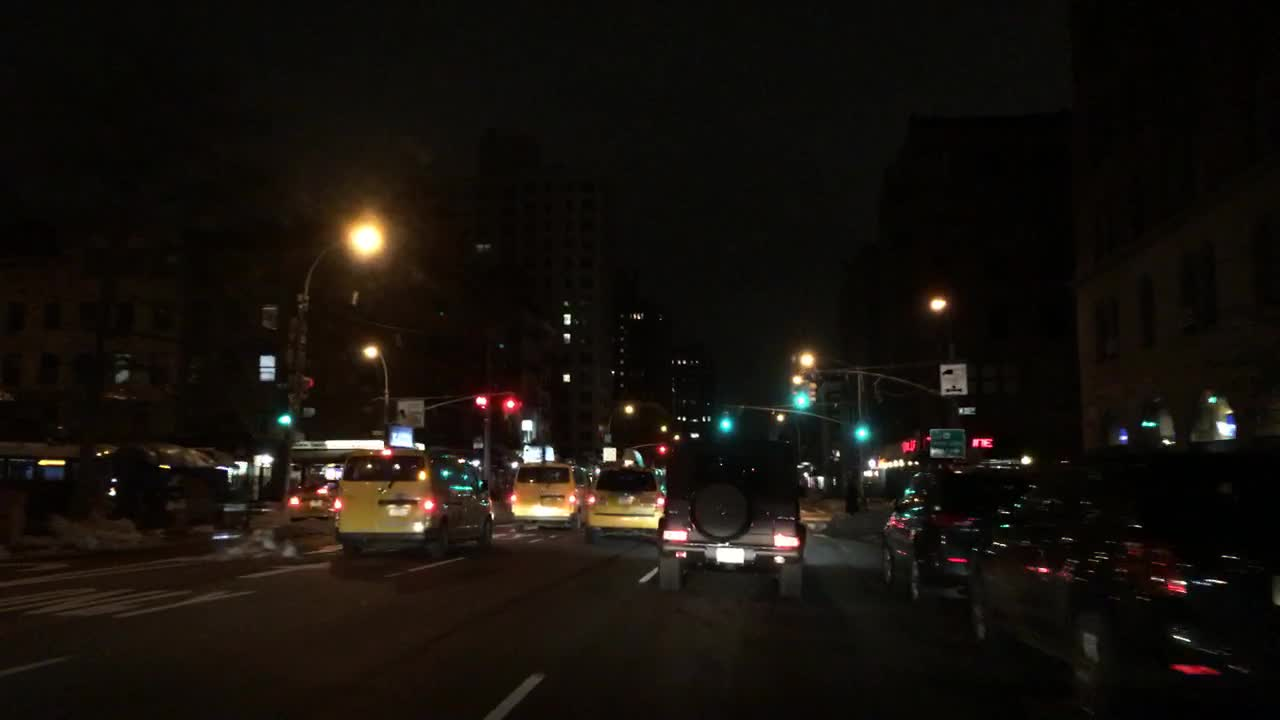car: (962, 443, 1277, 717), (654, 436, 807, 603), (876, 462, 1041, 605), (331, 444, 492, 565), (583, 467, 658, 540), (511, 462, 590, 530)
person: (841, 474, 861, 518)
traffic light: (793, 382, 807, 408), (717, 410, 733, 431), (504, 394, 518, 415), (279, 410, 293, 431), (855, 422, 869, 443), (303, 372, 315, 396), (808, 380, 817, 407), (474, 395, 488, 411)
traffic sign: (925, 425, 964, 464), (941, 362, 964, 397), (394, 395, 422, 423), (600, 447, 618, 463), (520, 445, 537, 459), (523, 417, 536, 433), (953, 406, 974, 415)
truck: (287, 439, 383, 525)
